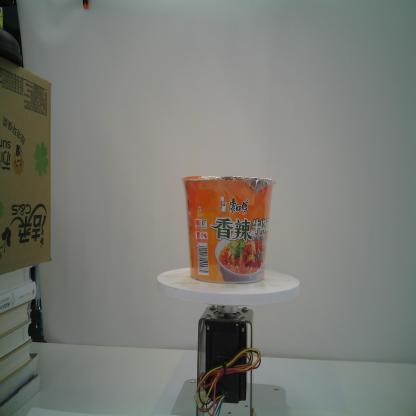Instant Noodles: (181, 174, 276, 286)
